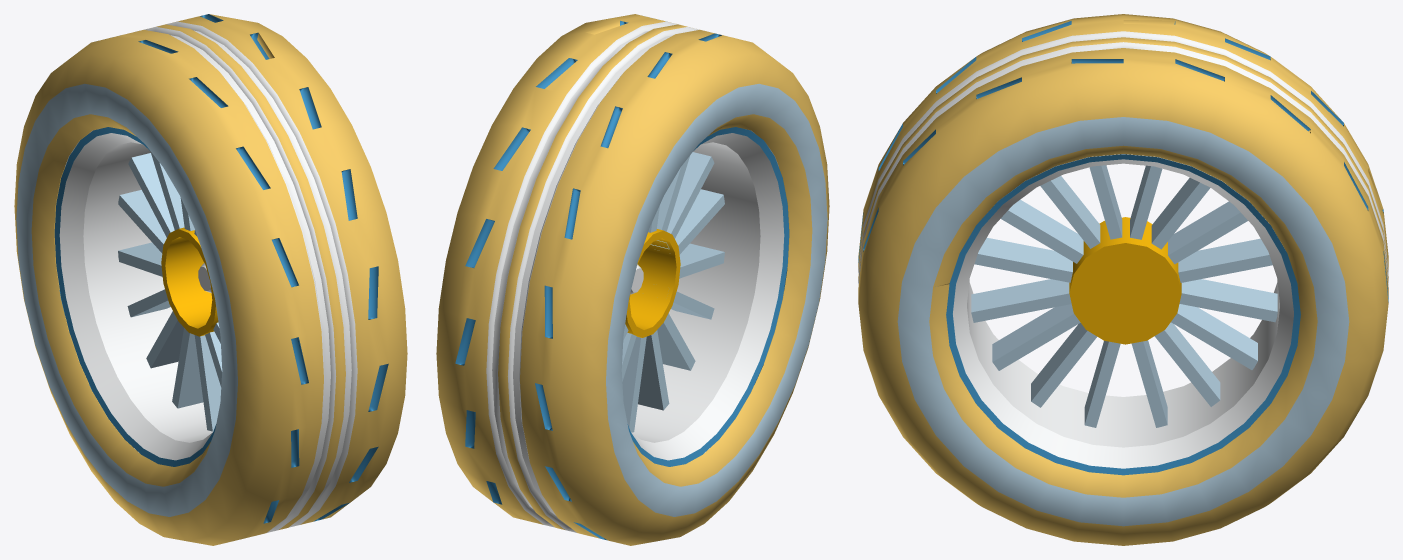
The model's file is colorwheel2.fbx.
3 renders of one model, left to right at view 1: azimuth 30°, elevation 25°; view 2: azimuth 150°, elevation 25°; view 3: azimuth 270°, elevation 25°, orthographic.
Parts seen in each view (by area): view 1: polySurface65; view 2: polySurface65; view 3: polySurface65.
Boxes of the visible parts, x1,y1,x2,y2 form: polySurface65: [14, 14, 407, 545]; polySurface65: [436, 14, 829, 545]; polySurface65: [858, 14, 1388, 545].
Size of the model in its own units: 0.4593 by 1.23 by 1.23.
Materials: 1 (1 with a texture image).
